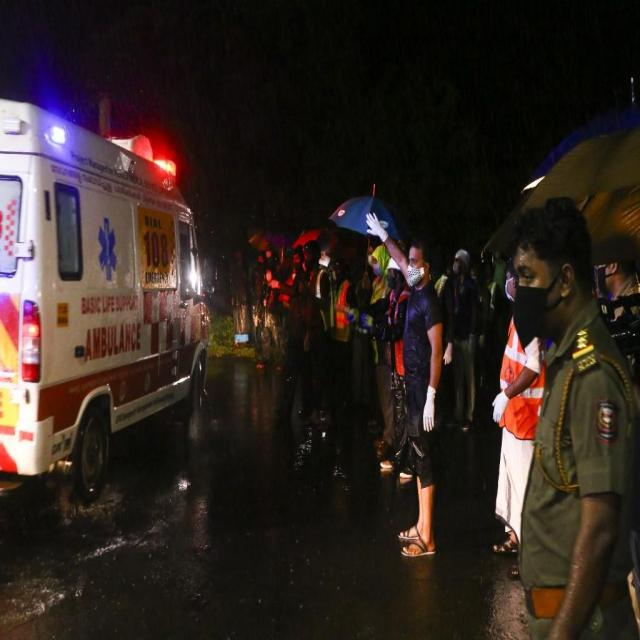emergency: (0, 99, 209, 500)
